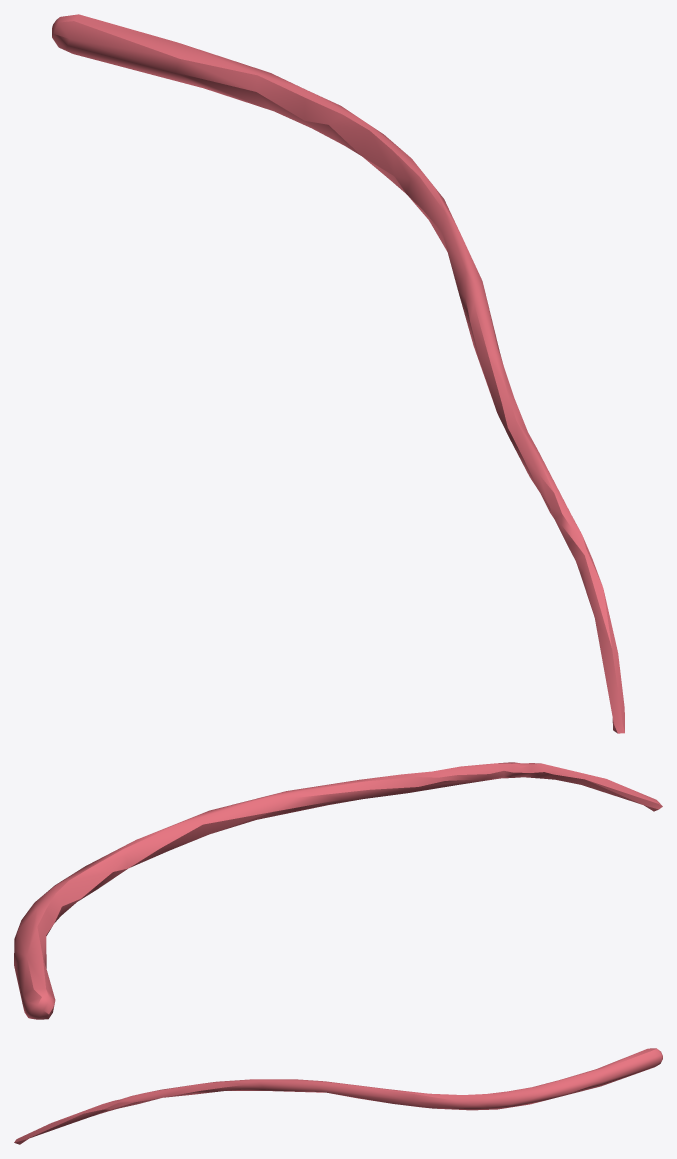
File: fma68068_fj3450.glb
The picture shows the model from 3 angles, top to bottom: view 1: azimuth 30°, elevation 25°; view 2: azimuth 150°, elevation 25°; view 3: azimuth 270°, elevation 25°; orthographic projection. The views are drawn at different scales.
Visible parts, largest first — view 1: FMA68068_FJ3450; view 2: FMA68068_FJ3450; view 3: FMA68068_FJ3450.
Boxes of the visible parts, <box> form: FMA68068_FJ3450: <box>52,14,624,733</box>; FMA68068_FJ3450: <box>14,762,662,1019</box>; FMA68068_FJ3450: <box>14,1048,662,1144</box>.
Size of the model in its own units: 0.0119 by 0.0111 by 0.0559.
